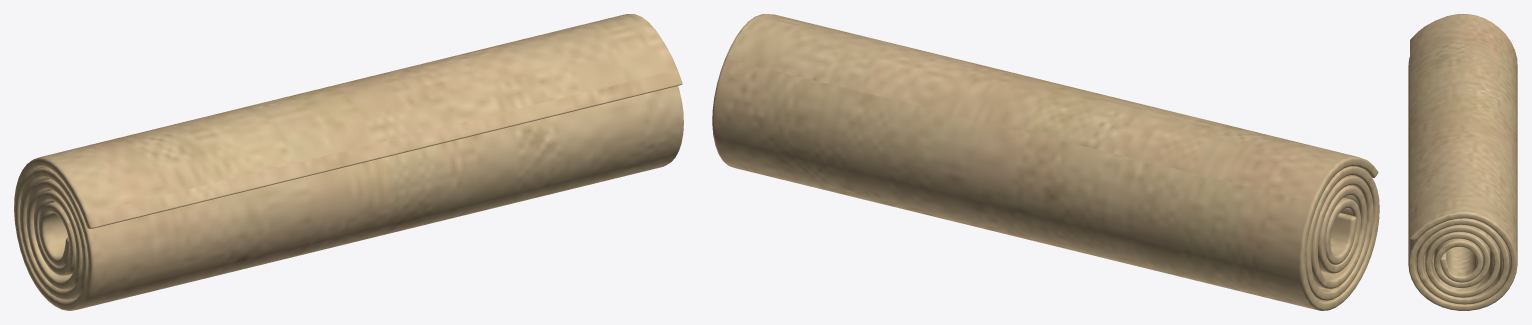
File: scroll2.fbx
3 views of the same model, side by side, from view 1: azimuth 30°, elevation 25°; view 2: azimuth 150°, elevation 25°; view 3: azimuth 270°, elevation 25° (orthographic). The views are drawn at different scales.
Visible parts, largest first — view 1: Scroll_v1_001; view 2: Scroll_v1_001; view 3: Scroll_v1_001.
Boxes of the visible parts, bbox=[...] form: Scroll_v1_001: bbox=[14, 14, 683, 310]; Scroll_v1_001: bbox=[712, 14, 1379, 310]; Scroll_v1_001: bbox=[1408, 14, 1517, 310].
Bounding box in the file's own units: 12.09 × 2.78 × 2.8.
1 material, 1 textured.
